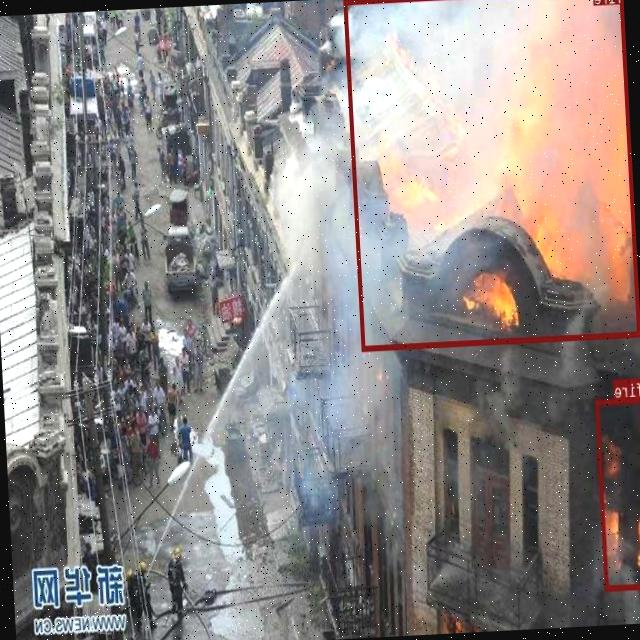fire: (345, 0, 640, 349), (595, 397, 640, 590)
